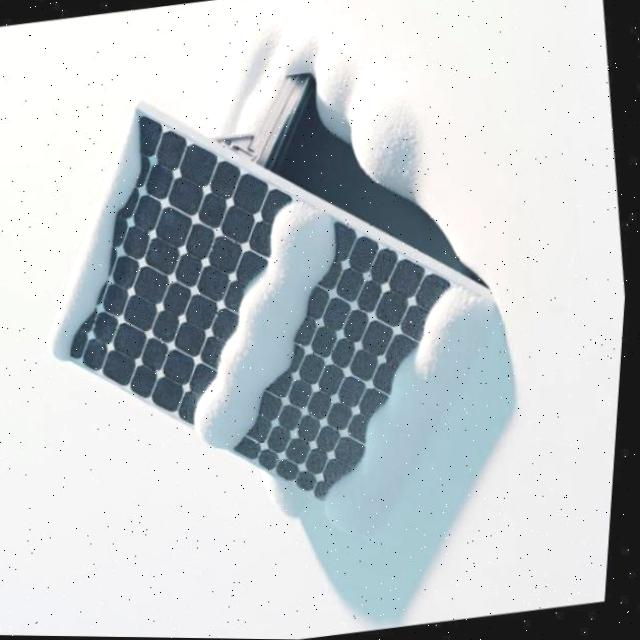Anomaly Solar Panel: (8, 109, 510, 537)
Snow: (318, 276, 508, 545), (189, 194, 352, 461), (49, 107, 160, 364)
